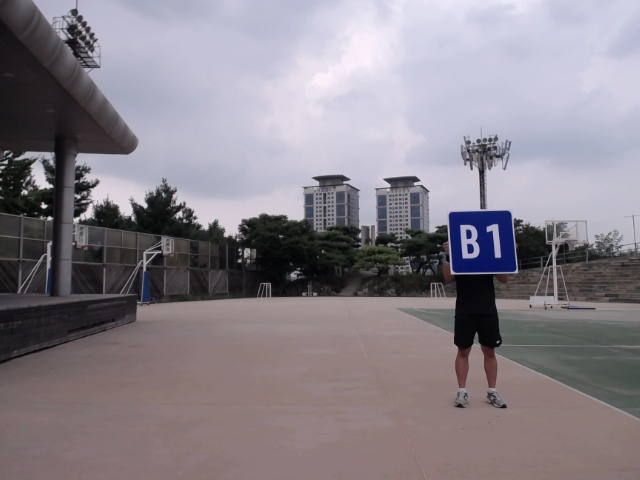delivery_b1: (447, 210, 517, 274)
